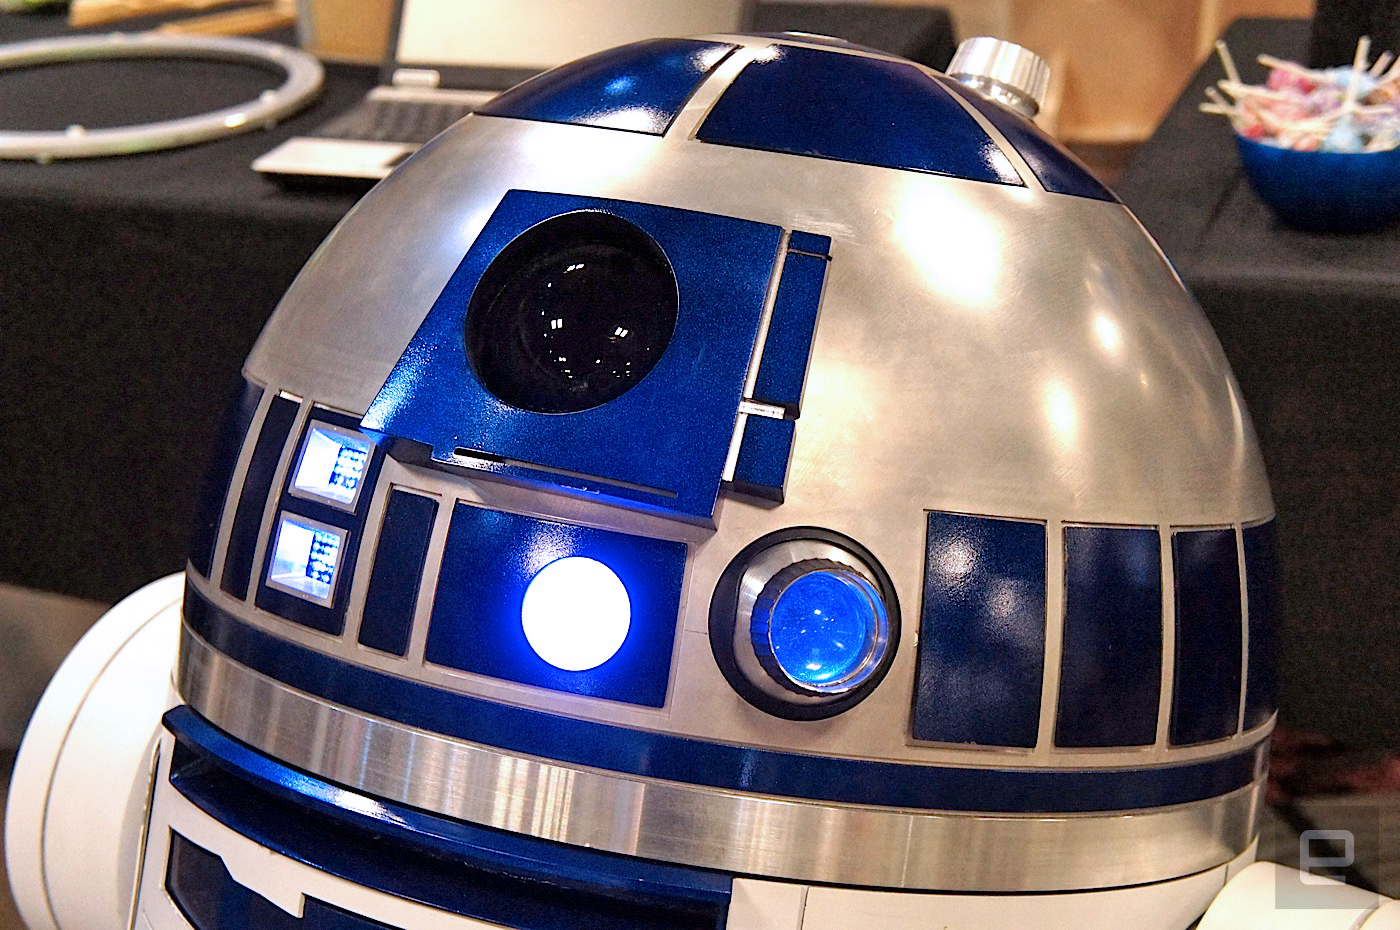r2d2: (94, 31, 1285, 927)
